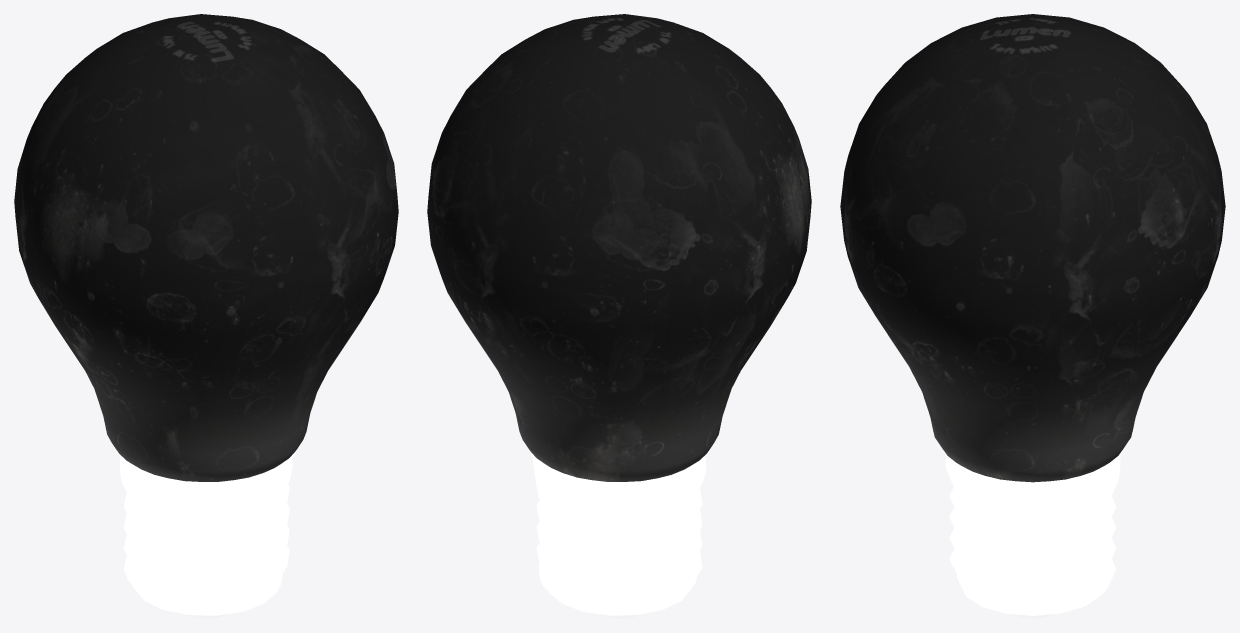
Rendered from bulb.glb.
The picture shows the model from 3 angles, left to right: view 1: azimuth 30°, elevation 25°; view 2: azimuth 150°, elevation 25°; view 3: azimuth 270°, elevation 25°; orthographic projection.
Visible parts, largest first — view 1: lightbulb_01; view 2: lightbulb_01; view 3: lightbulb_01.
Part boxes in pixels (box(x1,y1,x2,y2)): lightbulb_01: box(14, 14, 398, 618); lightbulb_01: box(427, 14, 811, 618); lightbulb_01: box(840, 14, 1225, 618).
Bounding box in the file's own units: 0.06 × 0.1003 × 0.06.
2 materials, 2 textured.
